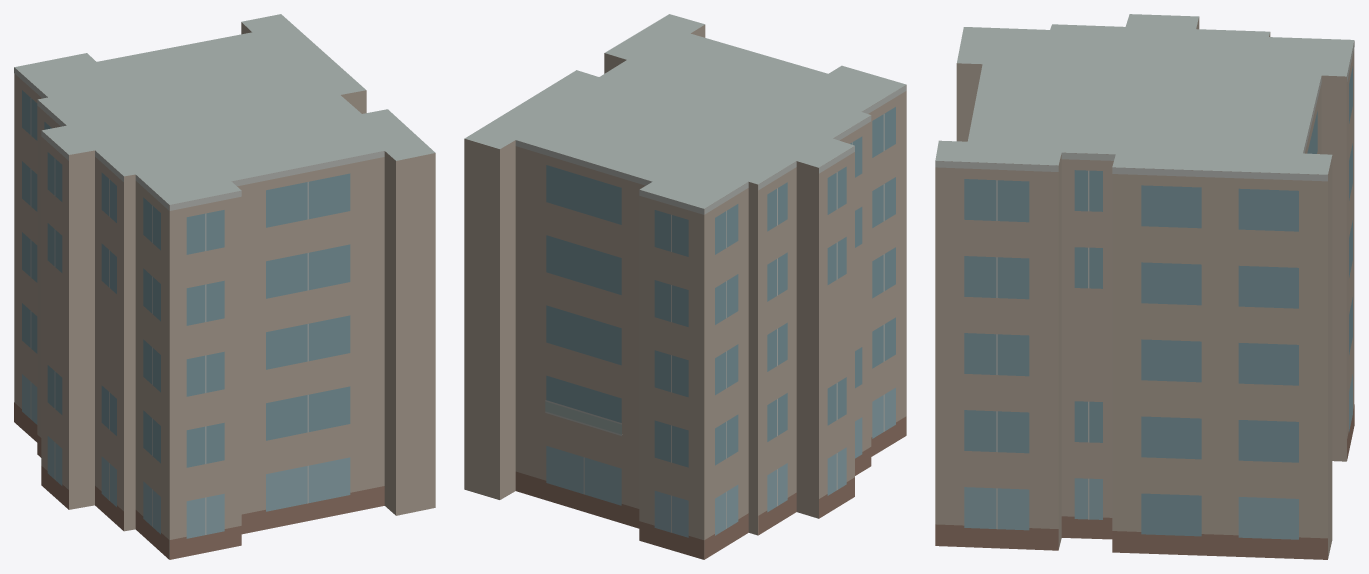
The model's file is survey-upis-32991844.glb.
The picture shows the model from 3 angles, left to right: view 1: azimuth 30°, elevation 25°; view 2: azimuth 150°, elevation 25°; view 3: azimuth 270°, elevation 25°; orthographic projection. The views are drawn at different scales.
Parts seen in each view (by area): view 1: survey-upis-32991844.tmp; view 2: survey-upis-32991844.tmp; view 3: survey-upis-32991844.tmp.
Boxes of the visible parts, left/top/right/bottom form: survey-upis-32991844.tmp: left=14, top=14, right=435, bottom=559; survey-upis-32991844.tmp: left=464, top=14, right=906, bottom=559; survey-upis-32991844.tmp: left=935, top=14, right=1354, bottom=559.
Size of the model in its own units: 12.72 by 14.2 by 14.01.
